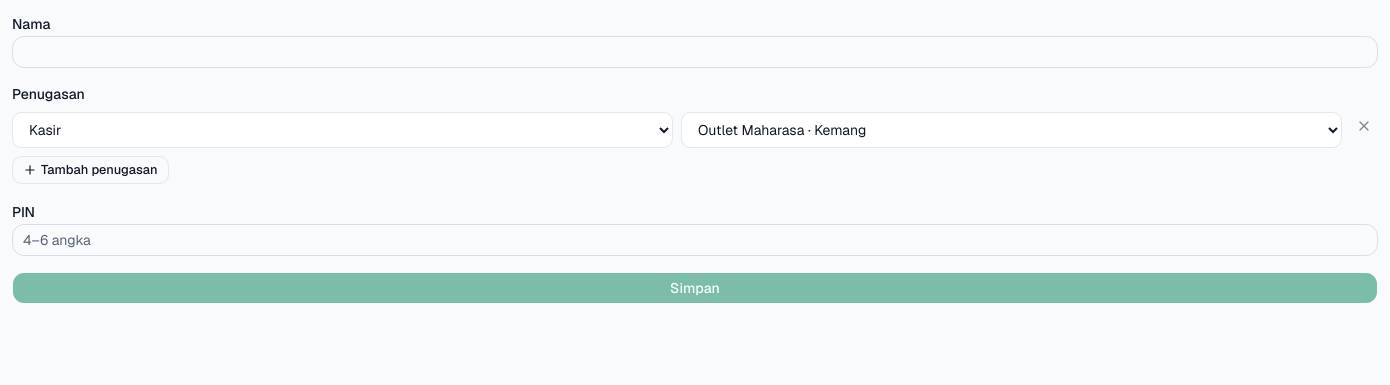
Scenario: UserForm (ADR-022 assignments) › holds several assignments and explains a rule a row breaks
Type "Budi" into the field labelled "Nama" at (695,52), box [12,36,1378,68]
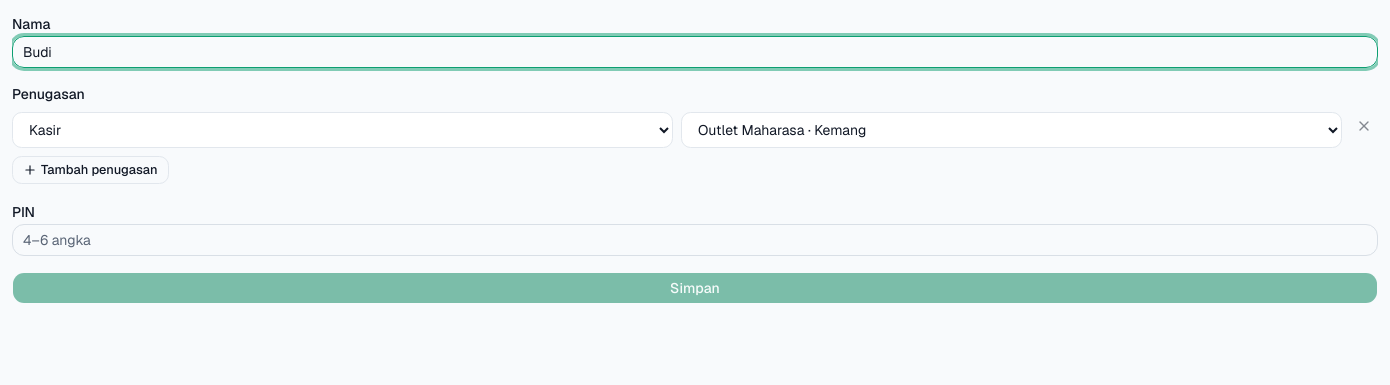
Type "1234" into the field labelled "PIN" at (695,240), box [12,224,1378,256]
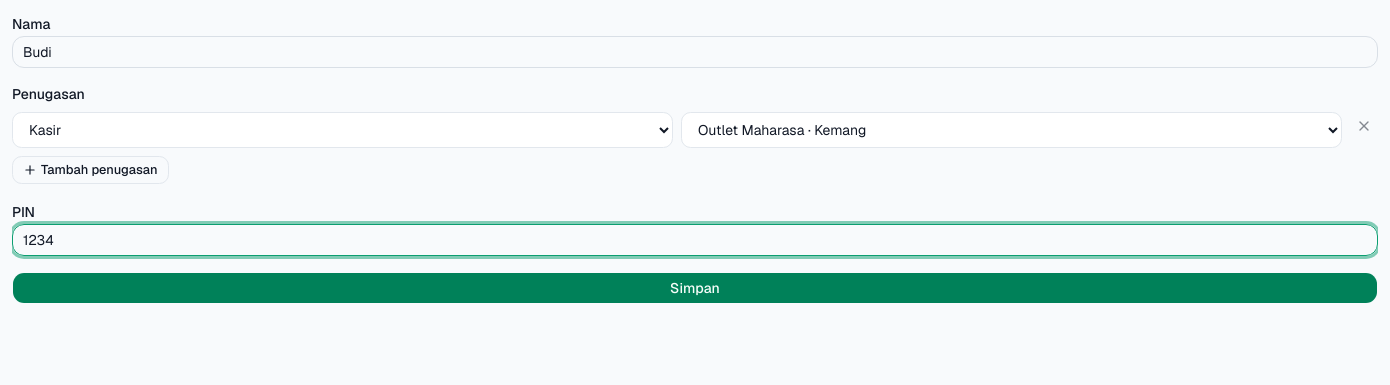
Click the button "Tambah penugasan" at (90,170), box [12,156,169,184]
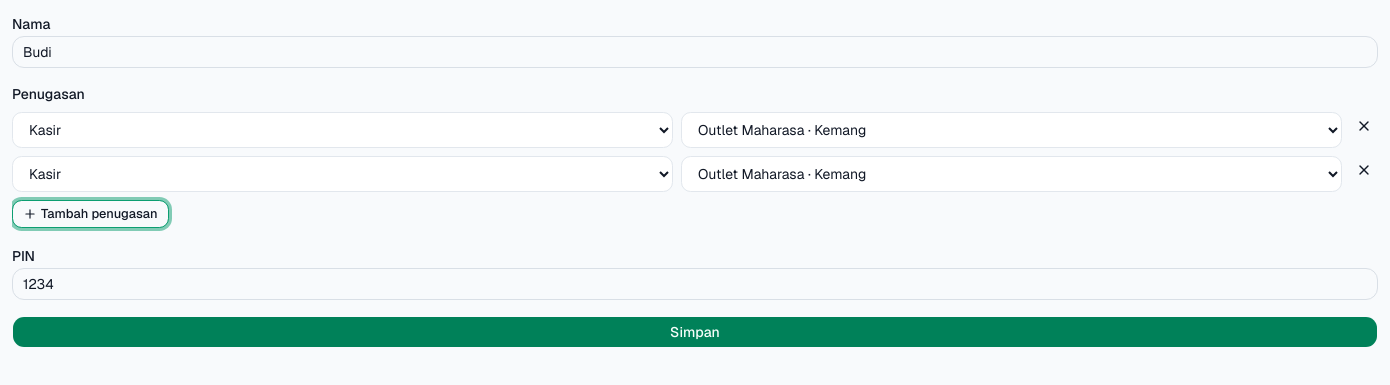
Select "Seluruh perusahaan" in the dropdown named "Cakupan 2" at (1012,174), box [681,156,1342,192]
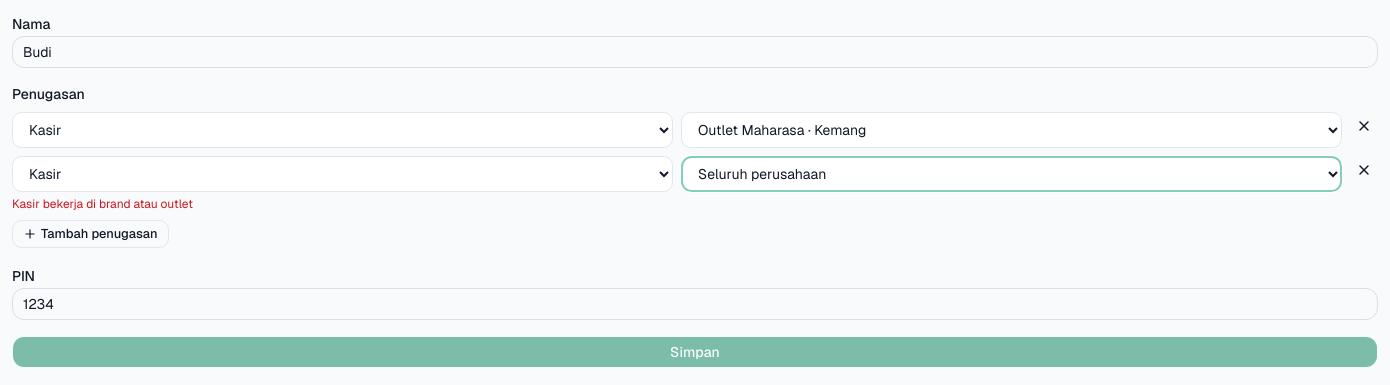
Expected: the text "Kasir bekerja di brand atau outlet" is shown, [12,196,193,212]
Expected: the button "Simpan" is disabled, [12,336,1378,368]
Click the button named "Hapus penugasan 2" at (1364,170), box [1350,156,1378,184]
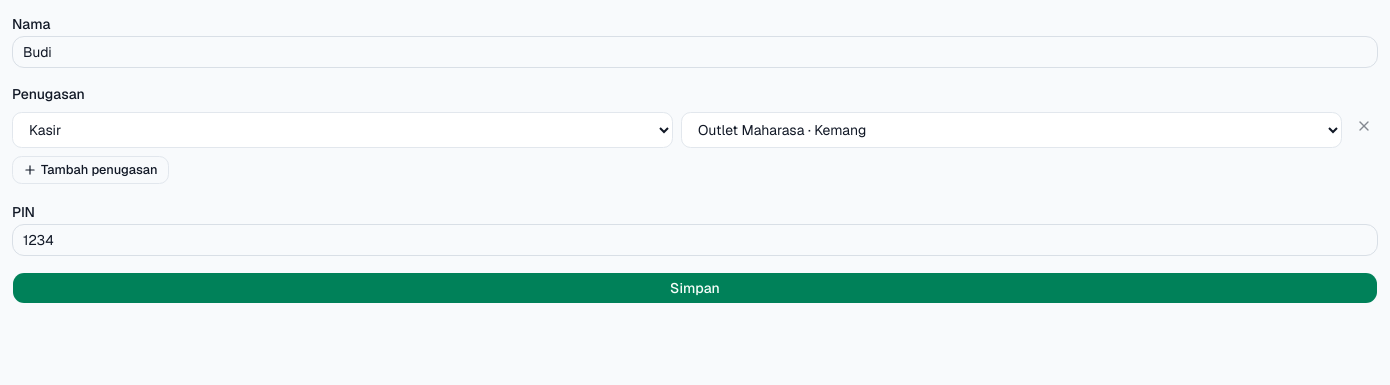
Expected: the button "Simpan" is enabled, [12,272,1378,304]
